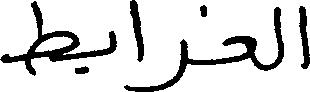X: (0, 0, 77, 80), (146, 34, 186, 91), (128, 0, 144, 91), (224, 31, 256, 71), (298, 1, 309, 73), (274, 2, 284, 72), (107, 26, 117, 59)
